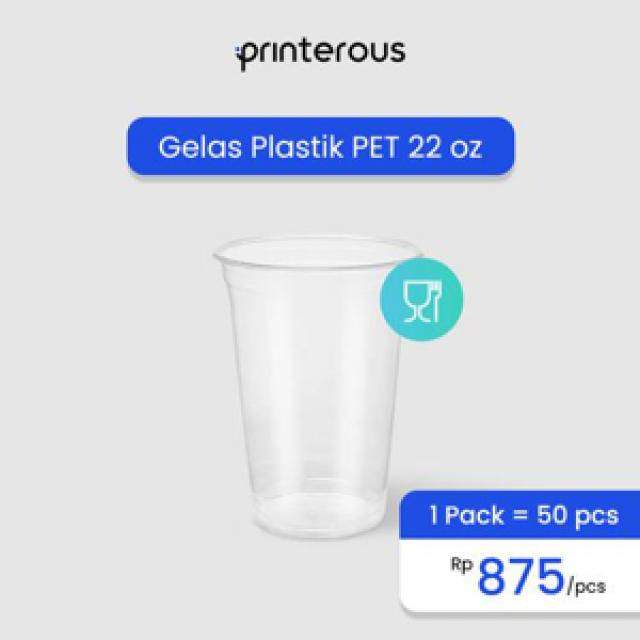plastic cup: (205, 224, 426, 548)
